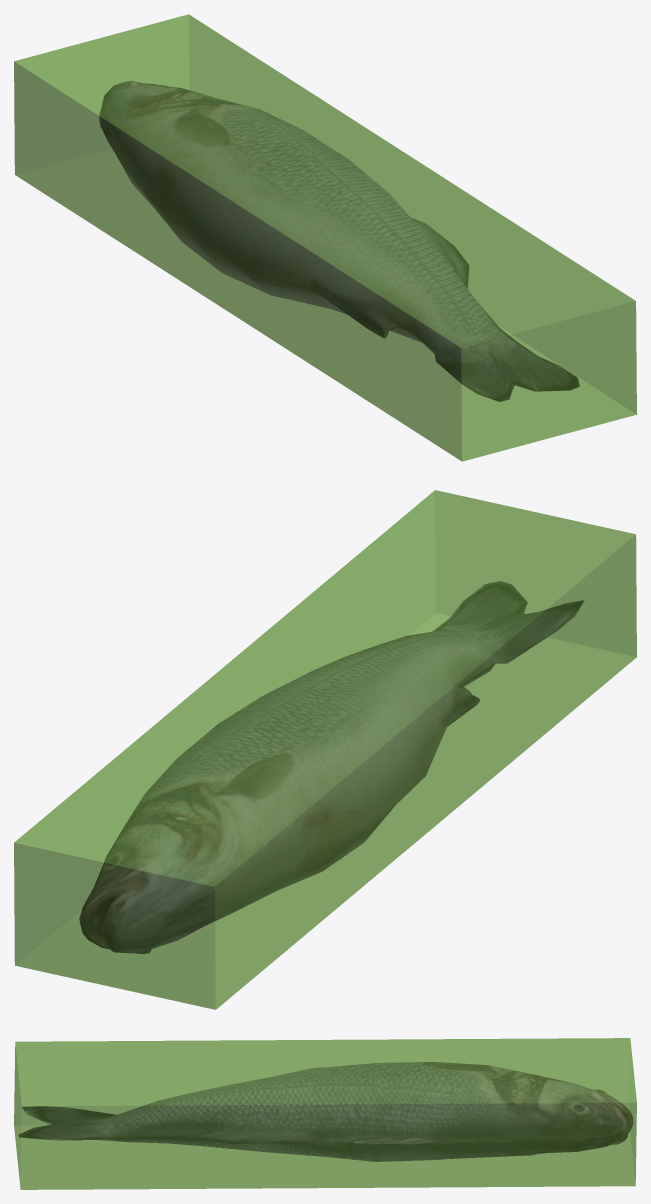
The model's file is pg_Fish_02.fbx.
3 renders of one model, top to bottom at view 1: azimuth 30°, elevation 25°; view 2: azimuth 150°, elevation 25°; view 3: azimuth 270°, elevation 25°, orthographic. The views are drawn at different scales.
Visible parts, largest first — view 1: pg_Fish_02_a_col, pg_Fish_02_a_LOD0; view 2: pg_Fish_02_a_col, pg_Fish_02_a_LOD0; view 3: pg_Fish_02_a_col, pg_Fish_02_a_LOD0.
Boxes of the visible parts, <box> form: pg_Fish_02_a_col: <box>14,14,636,461</box>; pg_Fish_02_a_LOD0: <box>99,81,579,401</box>; pg_Fish_02_a_col: <box>14,490,636,1009</box>; pg_Fish_02_a_LOD0: <box>79,581,584,954</box>; pg_Fish_02_a_col: <box>14,1038,636,1189</box>; pg_Fish_02_a_LOD0: <box>19,1062,633,1161</box>.
Size of what is drawn, in the model's own units: 14.17 by 7.93 by 49.15.
